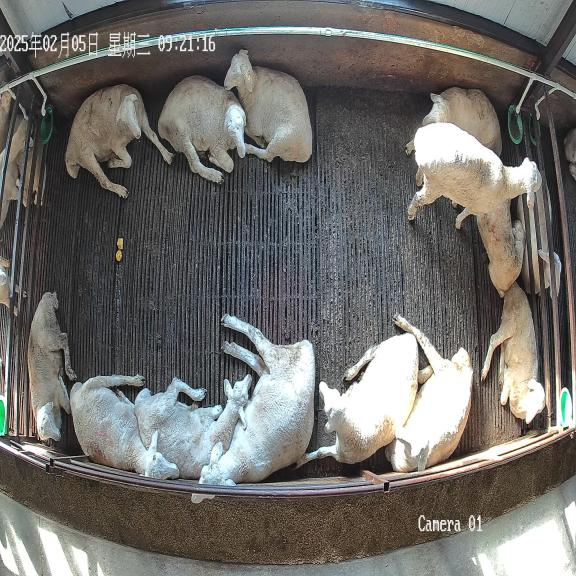lying: (189, 315, 315, 503), (298, 333, 419, 466), (385, 315, 472, 472), (65, 84, 173, 197), (135, 377, 252, 479), (71, 376, 180, 479), (224, 49, 312, 162), (158, 76, 246, 183), (481, 283, 545, 424), (28, 292, 76, 441), (422, 87, 502, 155), (476, 201, 524, 297)
stand: (408, 122, 541, 228)
